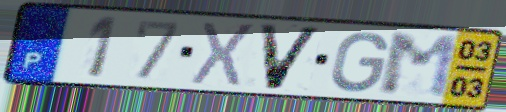1: (84, 14, 120, 81)
7: (132, 19, 182, 82)
G: (329, 30, 392, 95)
M: (378, 32, 462, 100)
V: (256, 22, 327, 92)
X: (187, 19, 259, 90)
